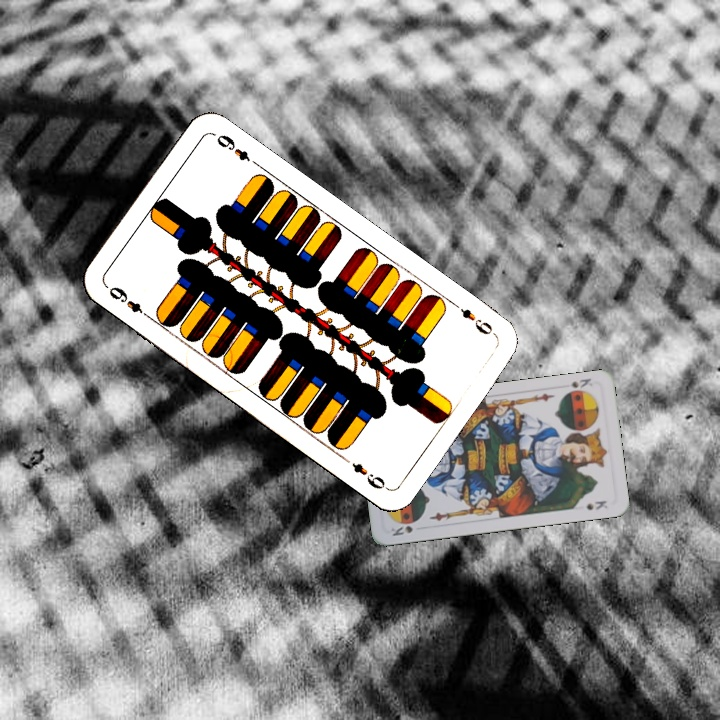E9: (448, 298, 499, 339), (103, 282, 154, 322)
SK: (387, 522, 415, 539), (567, 374, 595, 391)
